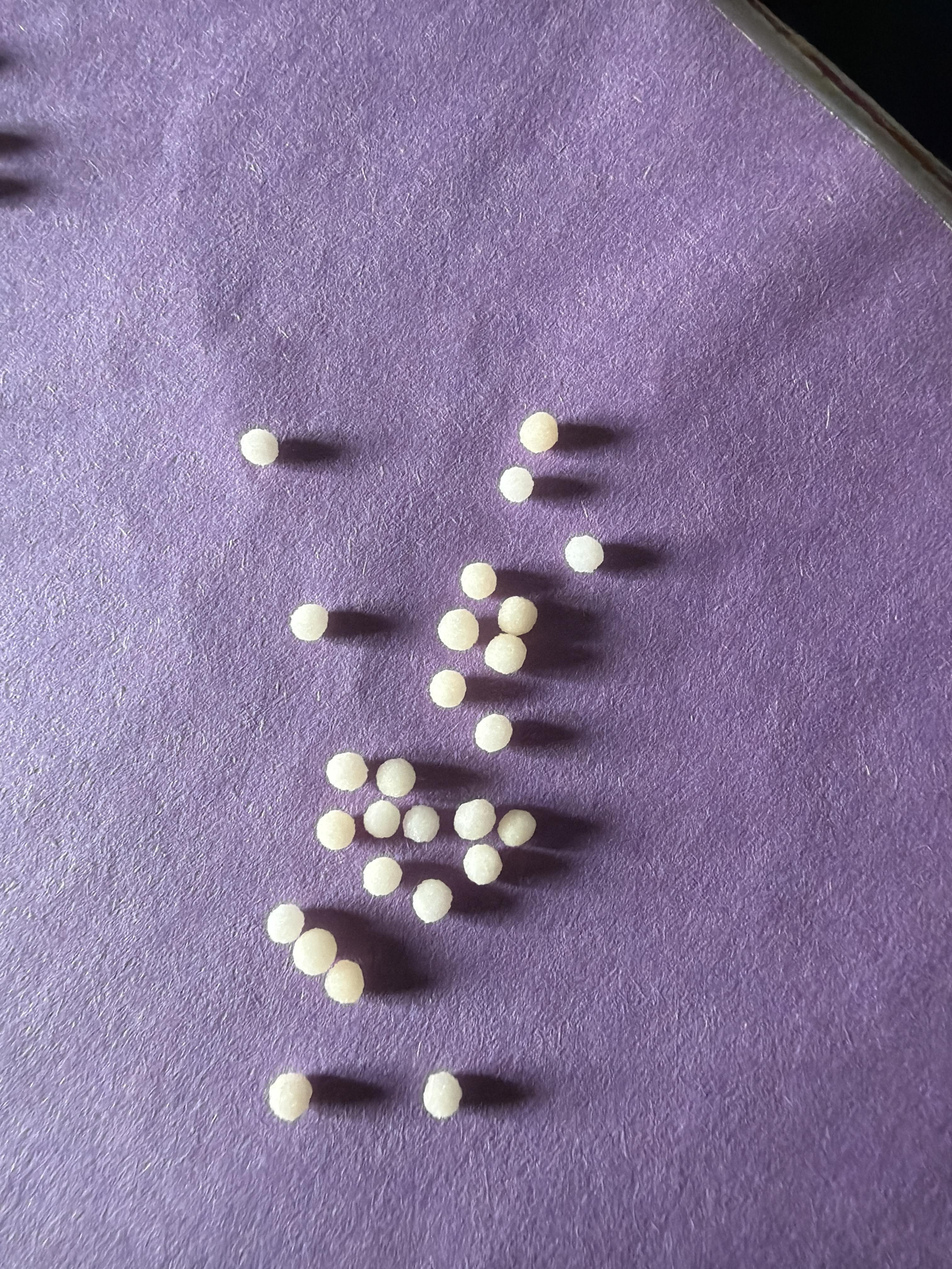pill: (268, 1072, 313, 1122), (292, 928, 337, 976), (422, 1071, 462, 1119), (438, 608, 479, 651), (324, 960, 364, 1004), (412, 878, 451, 923), (454, 799, 495, 841), (484, 633, 526, 674), (315, 809, 355, 850), (519, 411, 558, 453), (326, 752, 368, 791), (463, 843, 502, 885), (376, 758, 416, 798), (363, 856, 402, 897), (266, 903, 304, 944), (498, 596, 537, 635), (474, 713, 512, 753), (564, 535, 604, 573), (239, 428, 278, 466), (497, 809, 536, 847), (429, 669, 466, 708), (290, 604, 328, 641), (363, 800, 400, 838), (403, 804, 439, 843), (460, 562, 496, 600), (499, 466, 534, 503)
